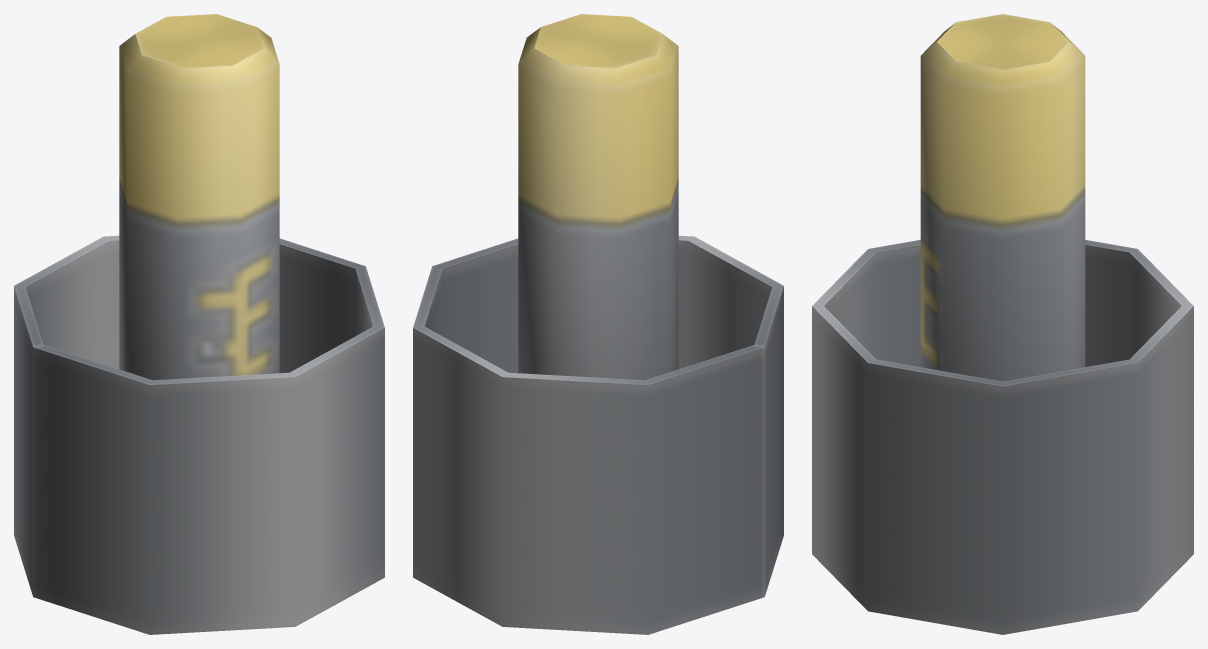
File: jsf_OilingBrush_Set_01.fbx
The picture shows the model from 3 angles, left to right: view 1: azimuth 30°, elevation 25°; view 2: azimuth 150°, elevation 25°; view 3: azimuth 270°, elevation 25°; orthographic projection.
Visible parts, largest first — view 1: Vessel, OilingBrush; view 2: Vessel, OilingBrush; view 3: Vessel, OilingBrush.
Part boxes in pixels (bbox=[...]): Vessel: bbox=[14, 235, 384, 634]; OilingBrush: bbox=[119, 14, 279, 380]; Vessel: bbox=[413, 235, 783, 634]; OilingBrush: bbox=[518, 14, 678, 380]; Vessel: bbox=[812, 240, 1193, 634]; OilingBrush: bbox=[920, 14, 1085, 381].
Size of the model in its own units: 8.11 by 12.01 by 8.11.
